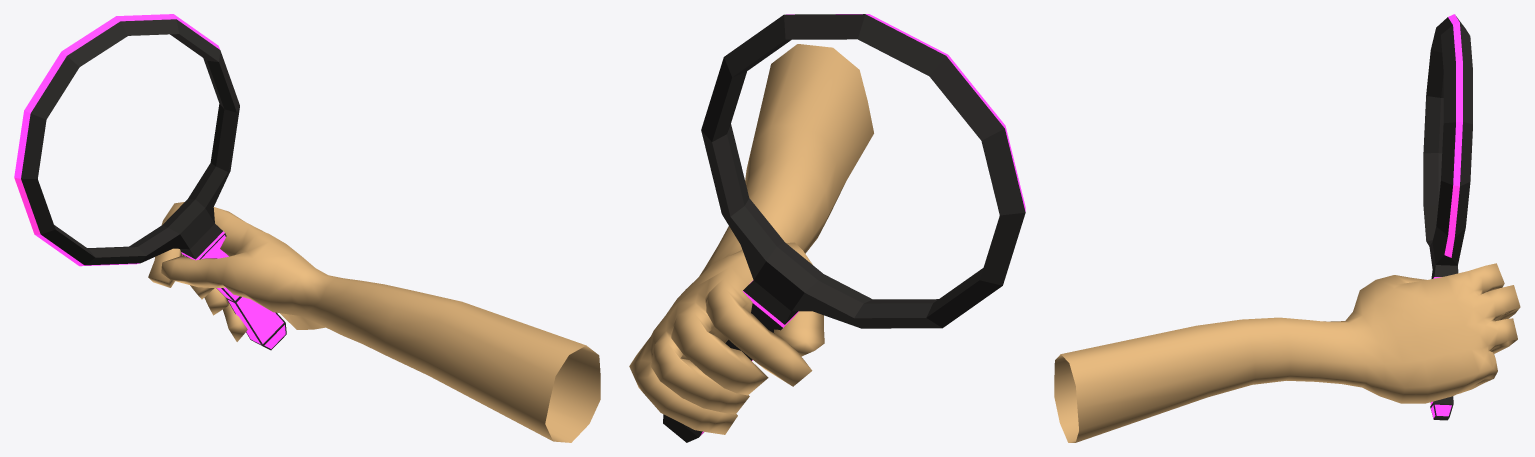
Rendered from mano_lupa.glb.
The picture shows the model from 3 angles, left to right: view 1: azimuth 30°, elevation 25°; view 2: azimuth 150°, elevation 25°; view 3: azimuth 270°, elevation 25°; orthographic projection. The views are drawn at different scales.
Visible parts, largest first — view 1: mano; view 2: mano; view 3: mano.
Boxes of the visible parts, x1=… form: mano: x1=14, y1=14, x2=600, y2=442; mano: x1=629, y1=14, x2=1025, y2=442; mano: x1=1054, y1=14, x2=1520, y2=442.
Bounding box in the file's own units: 0.2991 × 0.2629 × 0.332.
